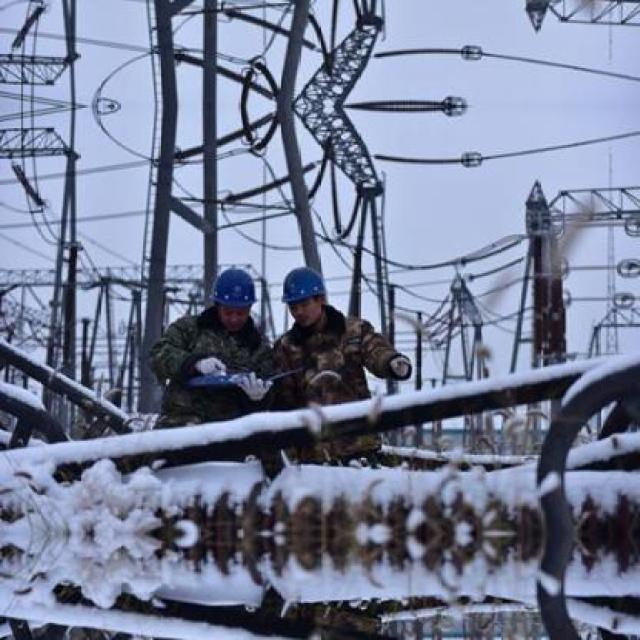helmet: (208, 264, 260, 333), (278, 261, 331, 327)
